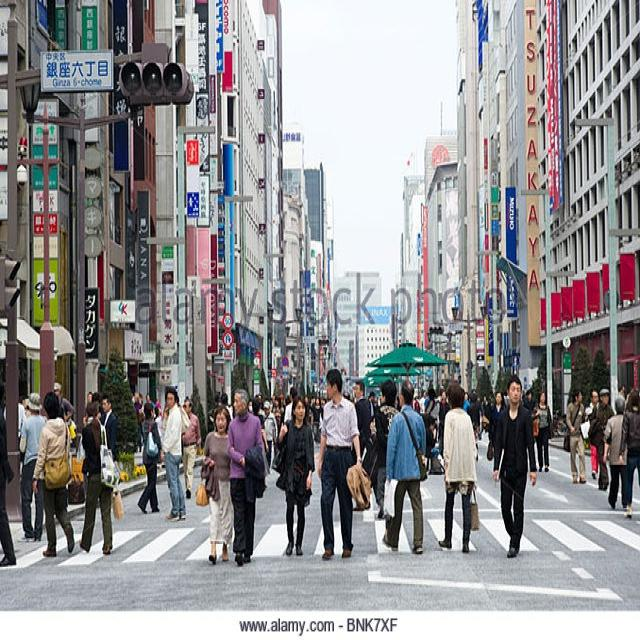body: (315, 366, 372, 561), (490, 372, 538, 558), (380, 378, 428, 556), (30, 389, 76, 558), (436, 380, 480, 556), (225, 386, 267, 567), (269, 392, 315, 557), (194, 402, 235, 565), (77, 399, 114, 557), (15, 390, 48, 544), (244, 392, 327, 445), (161, 383, 192, 522), (373, 377, 401, 521), (0, 381, 19, 568), (136, 399, 166, 514), (602, 395, 630, 512), (562, 386, 593, 485), (587, 386, 616, 491), (617, 386, 639, 521), (180, 397, 203, 501), (349, 379, 372, 465), (531, 388, 553, 472), (486, 388, 508, 467), (583, 389, 601, 481), (53, 380, 79, 441), (461, 386, 493, 431), (98, 393, 118, 464), (260, 399, 278, 473), (466, 392, 484, 463), (250, 396, 270, 454), (438, 389, 452, 461), (129, 389, 162, 419), (2, 402, 26, 439), (131, 391, 145, 454), (521, 387, 536, 445), (152, 405, 166, 465), (423, 418, 437, 473), (366, 389, 401, 409), (283, 384, 300, 422), (91, 391, 106, 426), (425, 386, 441, 418), (410, 389, 428, 415), (219, 392, 234, 423), (20, 390, 31, 418), (502, 389, 511, 422), (86, 389, 93, 405), (342, 390, 350, 400), (521, 389, 526, 403), (185, 395, 189, 400)
